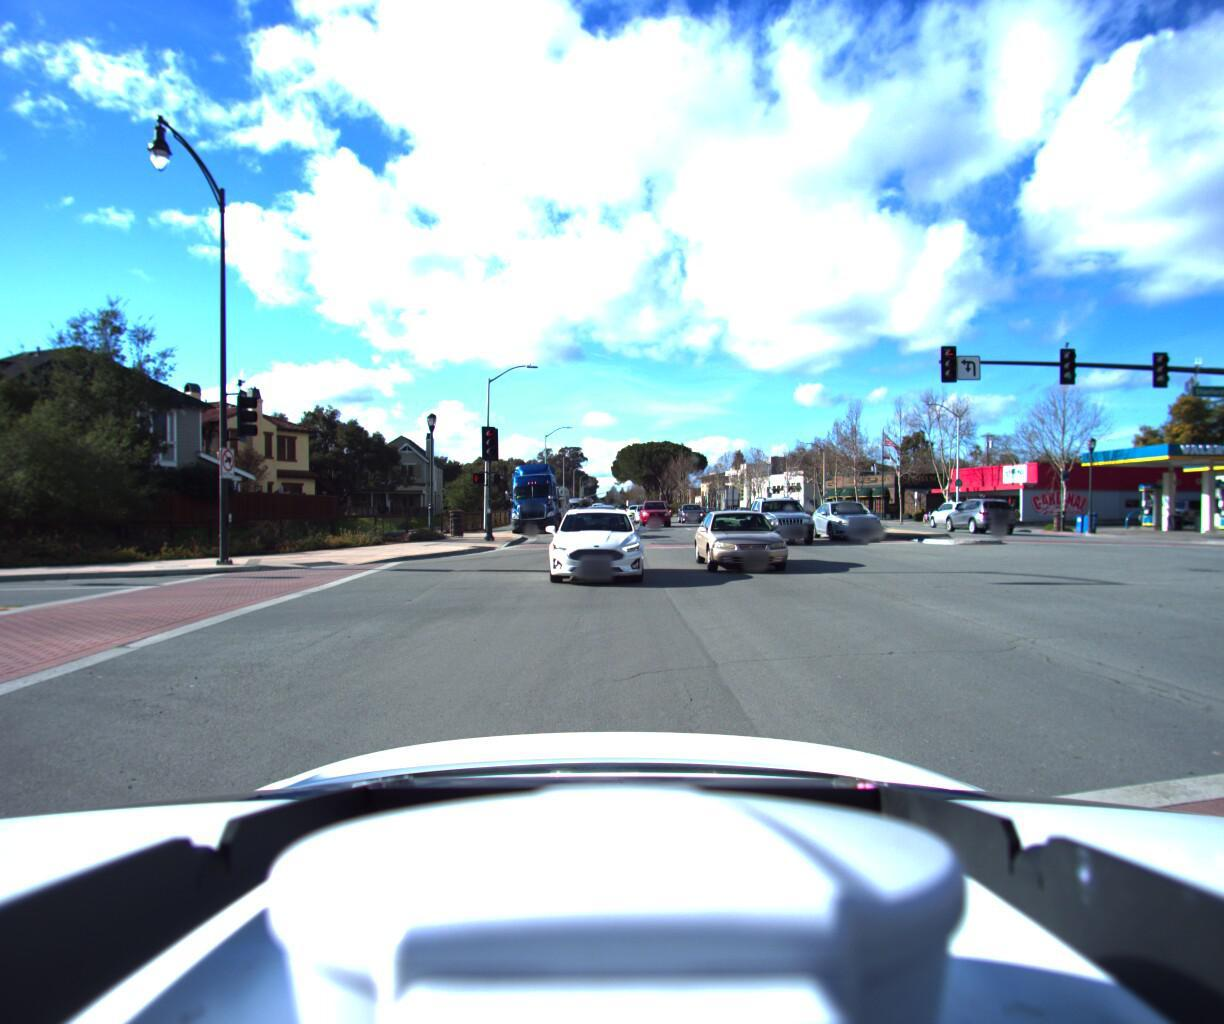bicycle: (998, 508, 1014, 523)
car: (692, 502, 811, 582), (541, 503, 642, 587), (747, 495, 829, 550), (804, 499, 888, 540), (931, 500, 1007, 535), (1131, 499, 1214, 531), (915, 501, 969, 528), (638, 501, 674, 530), (677, 503, 711, 527)
other_vehicle: (527, 483, 571, 529)
truck: (504, 459, 562, 536)
